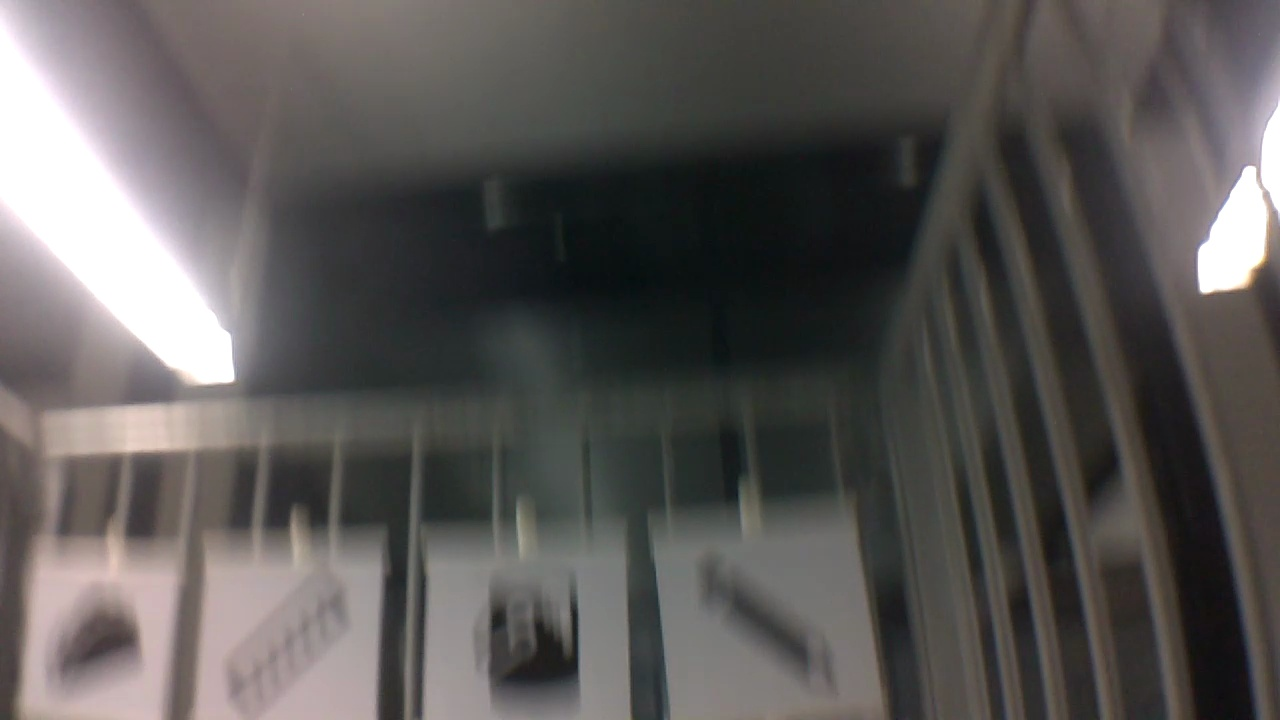bucket: (453, 559, 590, 706)
pencil: (684, 552, 841, 700)
taco: (36, 587, 143, 689)
